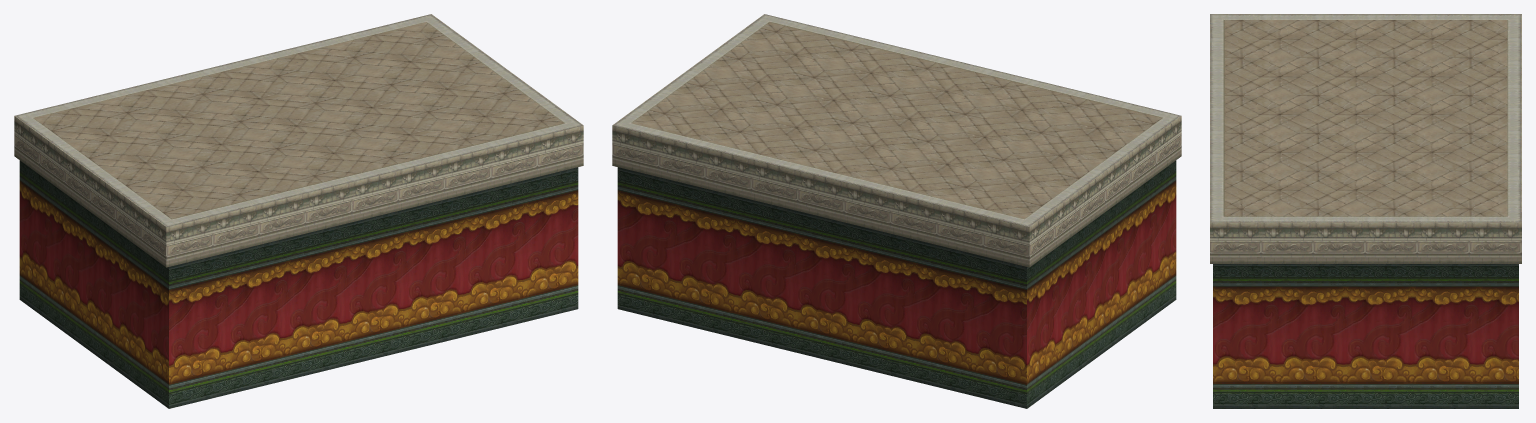
File: environment_Building_zhucheng_002_a.FBX
3 renders of one model, left to right at view 1: azimuth 30°, elevation 25°; view 2: azimuth 150°, elevation 25°; view 3: azimuth 270°, elevation 25°, orthographic. The views are drawn at different scales.
Parts seen in each view (by area): view 1: environment_Building_zhucheng_002_a3, environment_Building_zhucheng_002_a1, environment_Building_zhucheng_002_a2; view 2: environment_Building_zhucheng_002_a3, environment_Building_zhucheng_002_a1, environment_Building_zhucheng_002_a2; view 3: environment_Building_zhucheng_002_a1, environment_Building_zhucheng_002_a3, environment_Building_zhucheng_002_a2.
Boxes of the visible parts, x1,y1,x2,y2 form: environment_Building_zhucheng_002_a3: [19, 160, 578, 408]; environment_Building_zhucheng_002_a1: [34, 22, 563, 218]; environment_Building_zhucheng_002_a2: [14, 14, 583, 267]; environment_Building_zhucheng_002_a3: [617, 160, 1176, 408]; environment_Building_zhucheng_002_a1: [632, 22, 1161, 218]; environment_Building_zhucheng_002_a2: [612, 14, 1181, 267]; environment_Building_zhucheng_002_a1: [1224, 20, 1507, 216]; environment_Building_zhucheng_002_a3: [1213, 264, 1518, 408]; environment_Building_zhucheng_002_a2: [1210, 14, 1521, 263].
Bounding box in the file's own units: 2159 × 909 × 1364.
